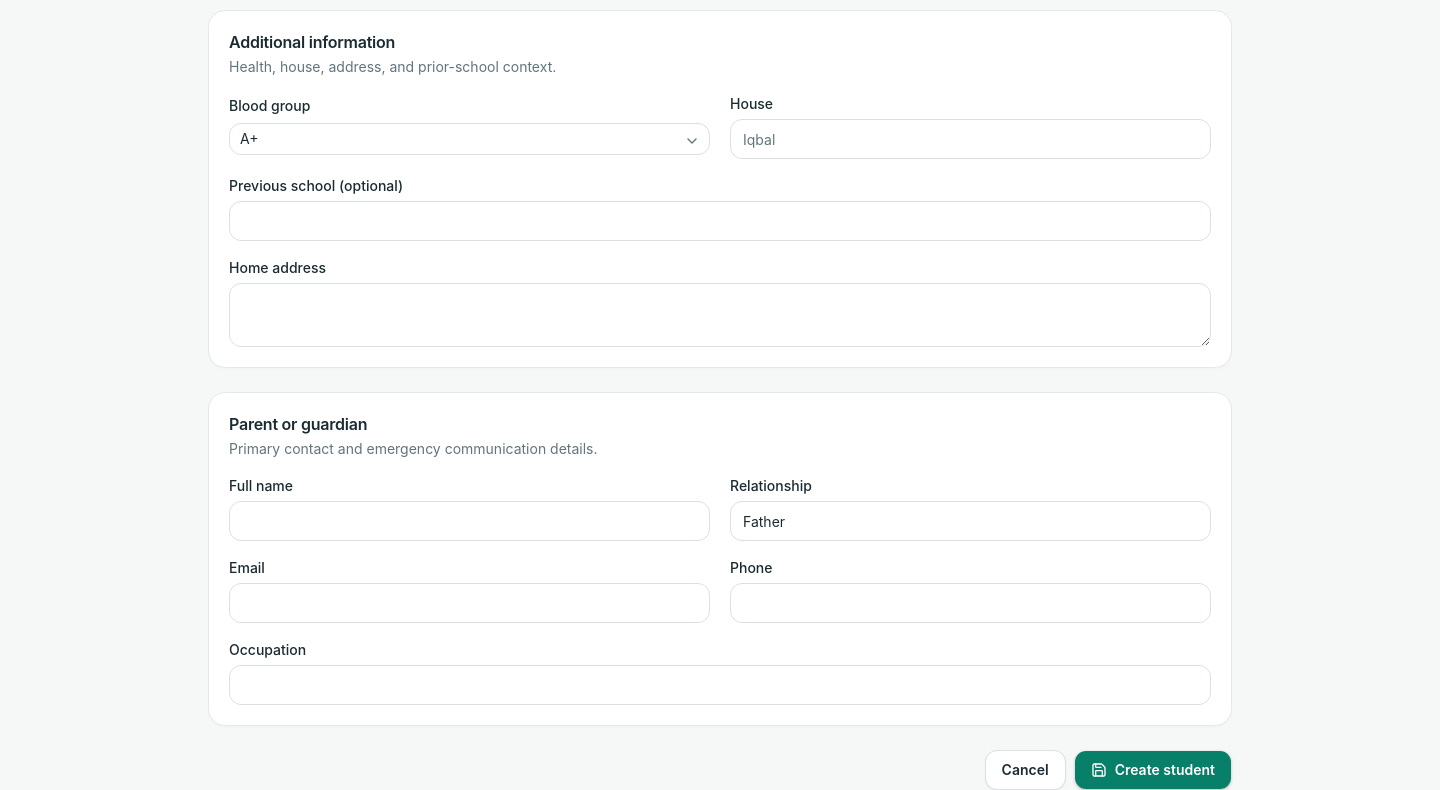
it: StudentFormPage › shows accessible validation for an incomplete record
(page scrolled)
What coordinates should you click on to do the following:
click the button "Create student"
I would click on:
 (1153, 770)
Its box is [1074,750,1232,789].
(page scrolled)
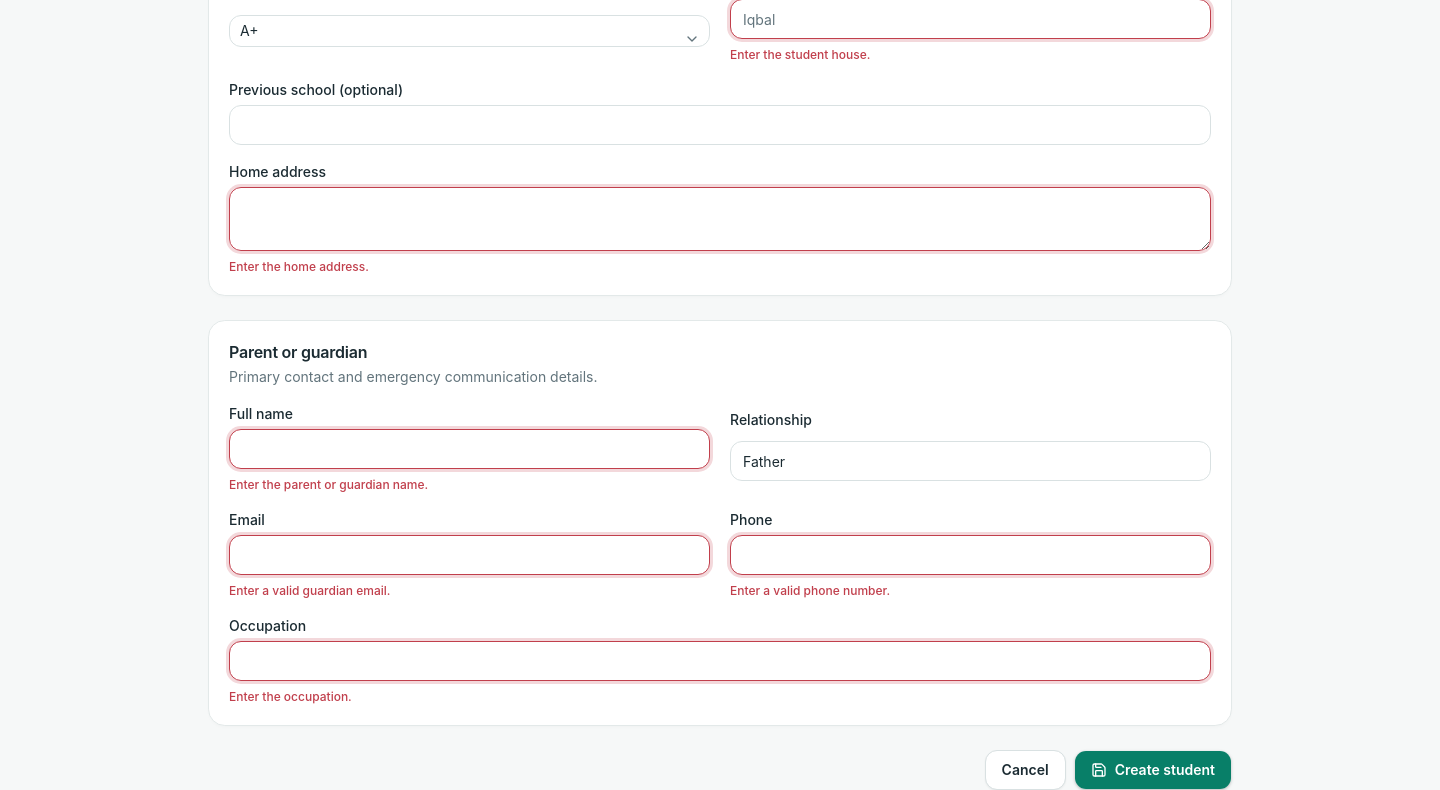
Expected: the text "Enter the parent or guardian name." is shown, [229,478,428,492]
